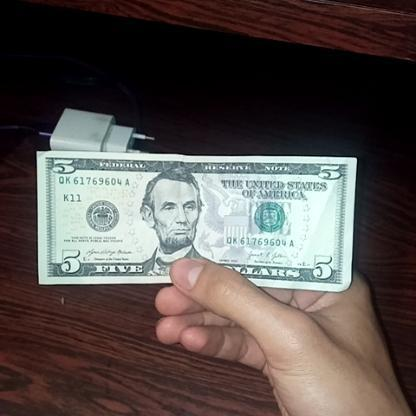five-front: (36, 148, 362, 292)
